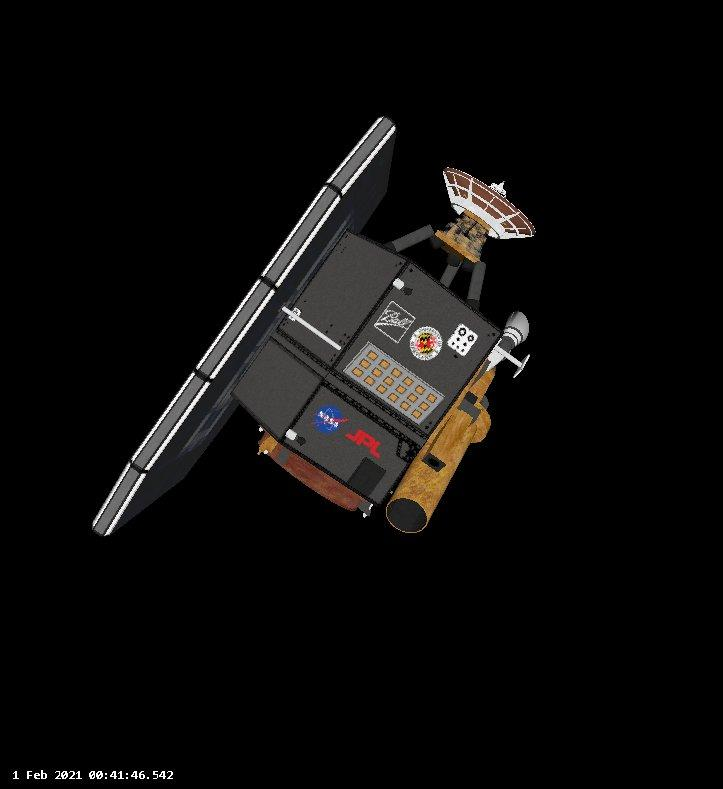antenna: (441, 163, 540, 241)
body: (224, 226, 506, 513)
solar: (88, 111, 401, 538)
thruster: (402, 285, 415, 298), (294, 435, 308, 447)
